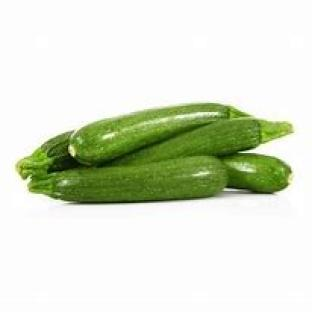Zucchini: (70, 103, 246, 165), (29, 156, 227, 202), (113, 119, 292, 165), (17, 132, 78, 178), (222, 153, 292, 193)
